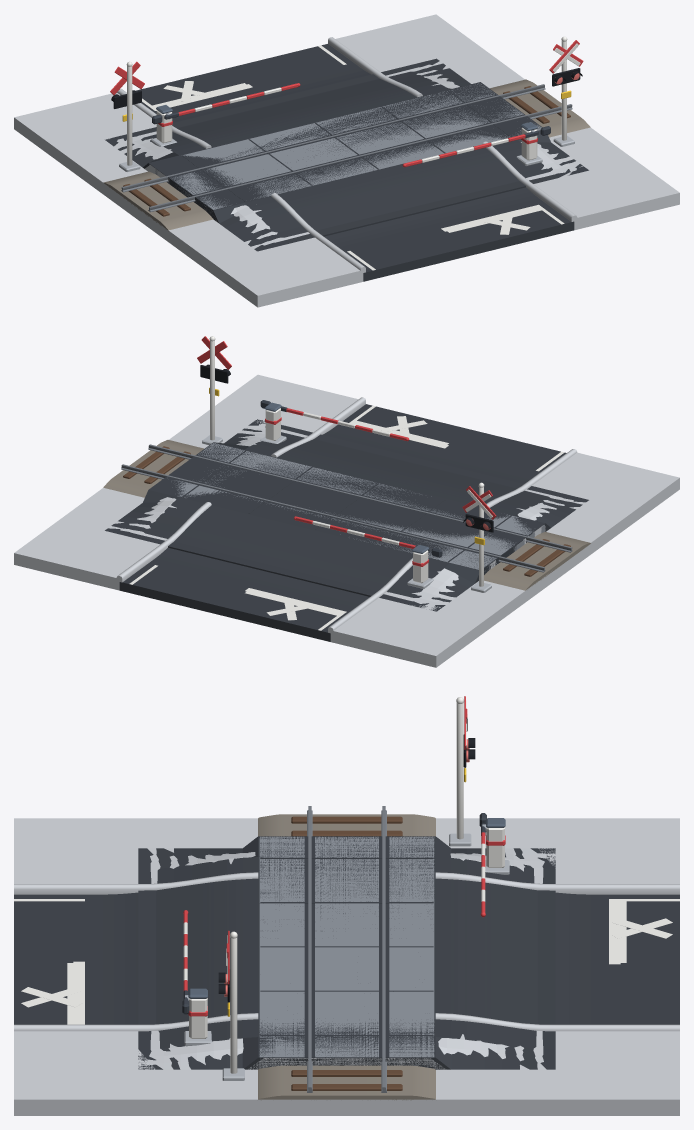
File: trilho_cruzamento_rua.glb
3 views of the same model, one above another, from view 1: azimuth 30°, elevation 25°; view 2: azimuth 150°, elevation 25°; view 3: azimuth 270°, elevation 25° (orthographic). The views are drawn at different scales.
Visible parts, largest first — view 1: trilho_cruzamento_rua, colisao_passagem, cancela_norte, cancela_sul; view 2: trilho_cruzamento_rua, colisao_passagem, cancela_sul, cancela_norte; view 3: trilho_cruzamento_rua, colisao_passagem.
Part boxes in pixels (<box>): trilho_cruzamento_rua: <box>14,14,679,307</box>; colisao_passagem: <box>105,58,588,251</box>; cancela_norte: <box>402,126,550,167</box>; cancela_sul: <box>152,83,300,124</box>; trilho_cruzamento_rua: <box>14,336,679,667</box>; colisao_passagem: <box>105,419,588,611</box>; cancela_sul: <box>294,516,442,557</box>; cancela_norte: <box>260,400,409,441</box>; trilho_cruzamento_rua: <box>14,696,679,1115</box>; colisao_passagem: <box>138,836,555,1069</box>.
Size of the model in its own units: 15 by 3.99 by 15.
Materials: 1 (1 with a texture image).
